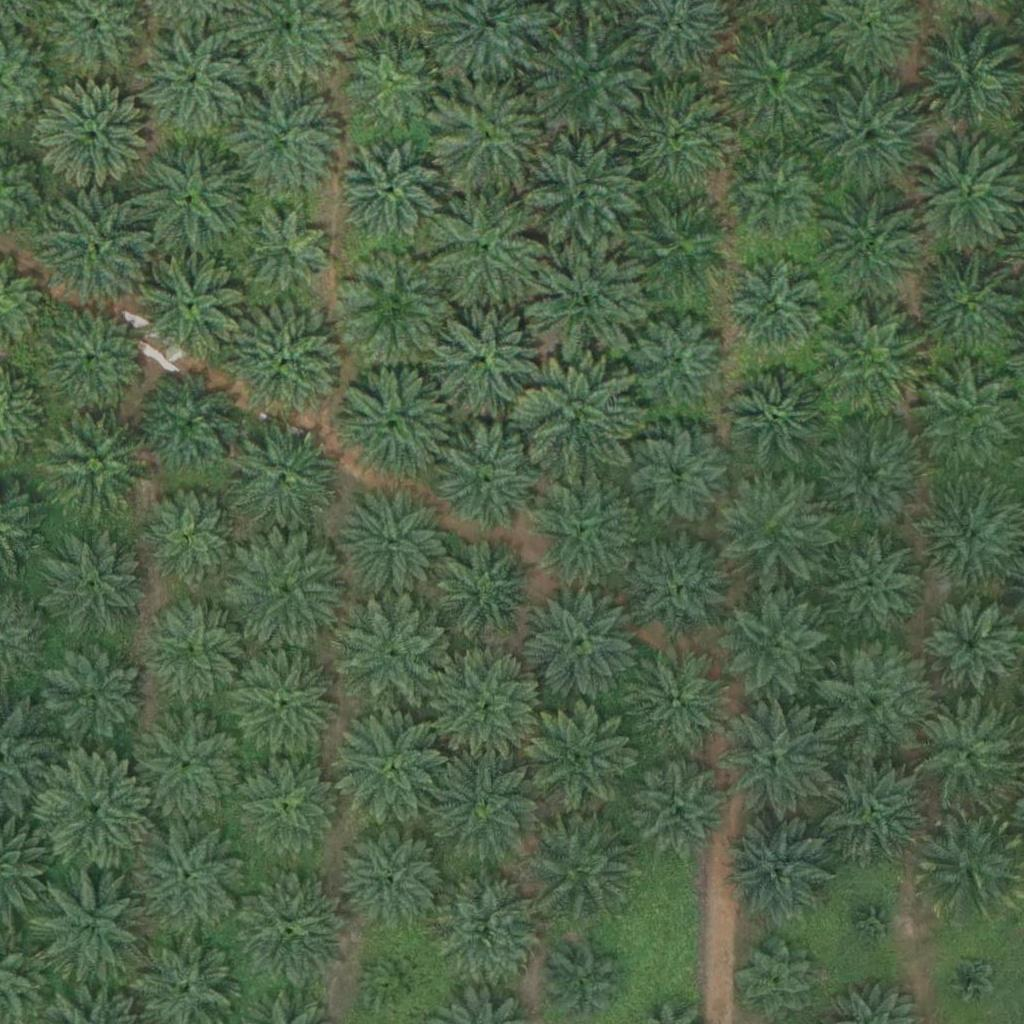Kelapa_Sawit: (531, 19, 644, 133), (816, 185, 929, 299), (431, 870, 544, 984), (337, 711, 450, 825), (39, 81, 152, 194), (132, 26, 245, 139), (135, 140, 248, 253), (136, 245, 249, 358), (230, 305, 343, 418), (340, 364, 453, 477), (431, 80, 544, 193), (526, 139, 639, 252), (528, 245, 641, 358), (522, 360, 635, 473), (720, 18, 833, 131), (817, 78, 930, 191), (721, 591, 834, 704), (721, 704, 834, 817), (724, 819, 837, 932), (619, 640, 732, 753), (435, 651, 548, 764), (429, 746, 542, 859), (336, 486, 449, 599), (340, 602, 453, 715), (227, 421, 340, 534), (232, 535, 345, 648), (39, 754, 152, 867), (36, 866, 149, 979), (37, 406, 149, 520), (627, 78, 739, 192), (817, 310, 929, 424), (233, 649, 345, 763), (36, 530, 148, 644), (37, 194, 149, 307), (35, 304, 147, 417), (227, 87, 339, 200), (339, 250, 451, 363), (433, 192, 545, 305), (431, 298, 543, 411), (624, 193, 736, 306), (813, 419, 925, 532), (813, 644, 925, 757), (817, 751, 929, 864), (716, 473, 828, 586), (528, 477, 640, 590), (525, 588, 637, 701), (530, 700, 642, 813), (529, 807, 641, 920), (435, 422, 547, 535), (235, 875, 347, 988), (134, 712, 246, 825), (138, 822, 250, 935), (138, 372, 238, 473), (238, 205, 338, 306), (342, 27, 442, 128), (338, 138, 438, 239), (628, 310, 728, 411), (630, 429, 730, 530), (730, 371, 830, 472), (922, 595, 1022, 696), (824, 536, 924, 637), (630, 533, 730, 634), (631, 760, 731, 861), (440, 539, 540, 640), (725, 258, 825, 358), (345, 828, 445, 928), (238, 759, 338, 859), (139, 491, 239, 591), (144, 605, 244, 705), (47, 649, 147, 749), (731, 155, 819, 243), (366, 953, 428, 1016), (851, 898, 901, 949), (945, 954, 995, 1005)
